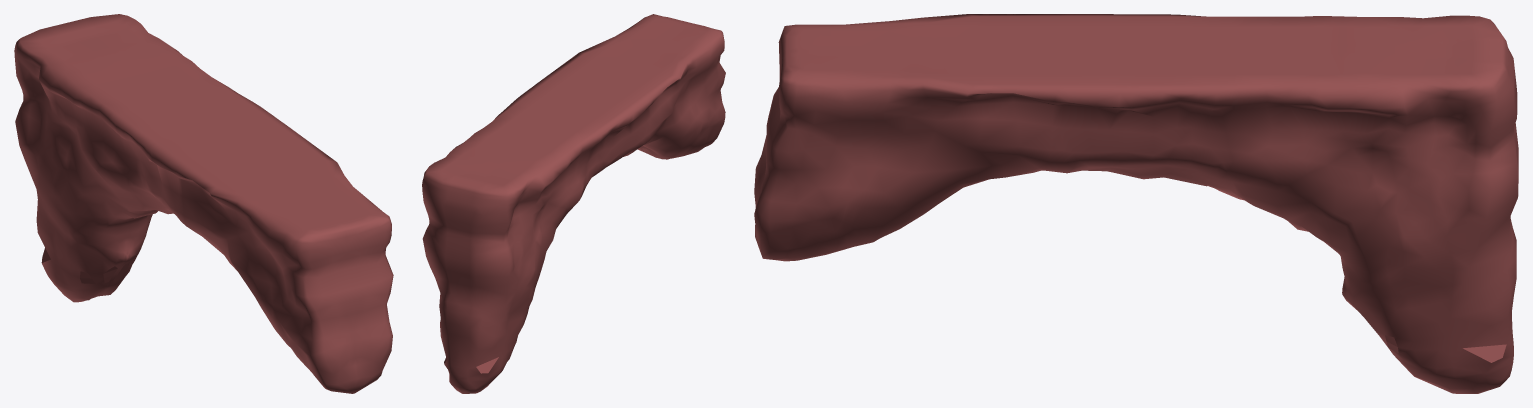
The model's file is bridge_low.FBX.
3 renders of one model, left to right at view 1: azimuth 30°, elevation 25°; view 2: azimuth 150°, elevation 25°; view 3: azimuth 270°, elevation 25°, orthographic. The views are drawn at different scales.
Visible parts, largest first — view 1: bridge; view 2: bridge; view 3: bridge.
Part boxes in pixels (bbox=[...]): bridge: bbox=[14, 14, 393, 393]; bridge: bbox=[422, 14, 725, 393]; bridge: bbox=[754, 14, 1518, 393].
Bounding box in the file's own units: 3.55 × 6.97 × 14.15.
